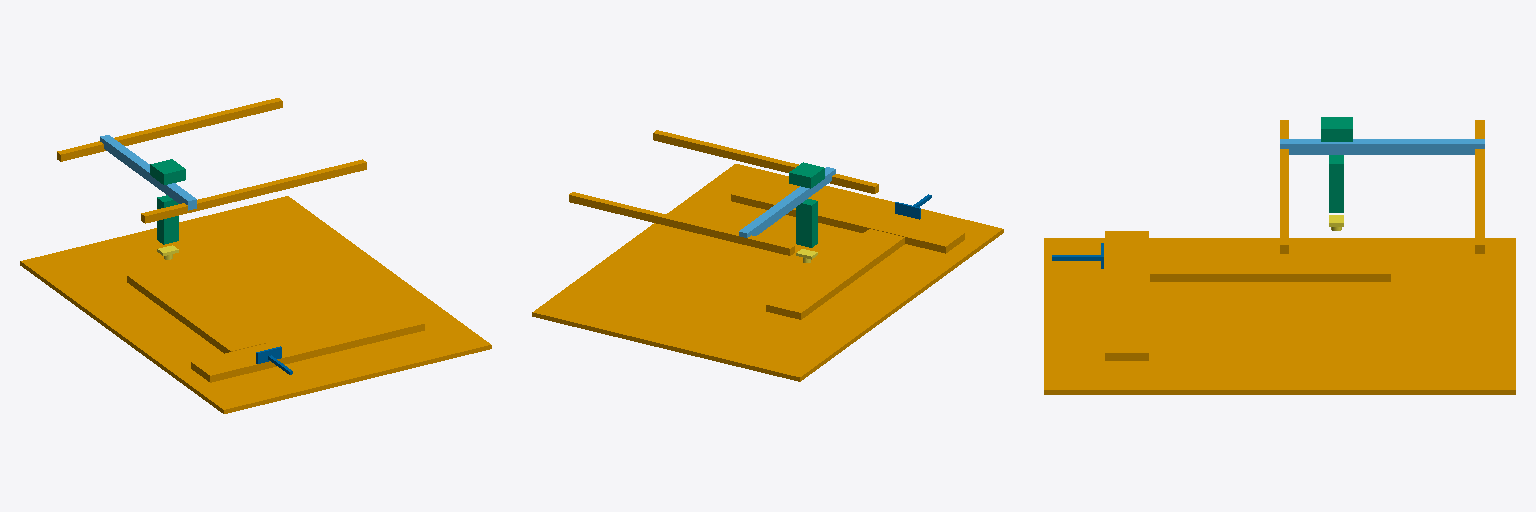
URDF robot description (production_cell):
<?xml version="1.0"?>
<!--
  robot: production_cell | consumers: MuJoCo, CAD Viewer, ROS robot_state_publisher
  units: metres, kilograms, seconds, radians | frames: Fusion +X right, +Y toward six bins, +Z up
  root: base_link at centre of the base-board lower face
  source: fusion/ProductionTwin_V0/ProductionTwin_V0.py via cad_reference/production_twin_v0_parts.csv
  geometry: primitive reductions of the Fusion layout; source CSV dimensions are millimetres
  links: base_link = static cell; x_beam_link = moving transverse rail;
         y_carriage_link = carriage plus A2 body; cup_link = A2 moving rods and suction cup;
         pusher_link = A1 moving rod and plate
  joints: x_joint +X from x=-0.180, range 0..0.400 m;
          y_joint +Y from y=0.120, range -0.050..0.220 m;
          a2_joint -Z from cup-link z=0.143, range 0..0.075 m;
          a1_joint +Y from plate y=-0.377, range 0..0.110 m
  inertials: assumed masses and box-envelope COM/tensors, computed with
             Ixx=m(y^2+z^2)/12, Iyy=m(x^2+z^2)/12, Izz=m(x^2+y^2)/12;
             these are placeholders, not CAD mass properties
  assumptions:
  - All machine dimensions are estimates from images, not measured geometry.
  - X and Y ranges are provisional drawing-workspace limits, not hardware limits.
  - A1 stroke 110 mm is provisional; A2 75 mm comes from the TN10X75-S label.
  - Z motion is a pneumatic binary stroke, even though modeled as a prismatic joint.
  - Root inertia approximates the whole fixed cell as a 0.76x1.00x0.34 m box of 7 kg.
  - Moving-link masses 0.70, 0.45, 0.15, 0.18 kg are assumed for simulation only.
  - Pusher inertia approximates the plate alone; the visible rod mass is not separately identified.
  - Static details, two moving belt surfaces, sensors, bins, and free products are completed in MJCF.
-->
<robot name="production_cell">
  <link name="base_link">
    <inertial>
      <origin xyz="0 0 0.17" rpy="0 0 0" />
      <mass value="7" />
      <inertia ixx="0.6507666667" ixy="0" ixz="0" iyy="0.4043666667" iyz="0" izz="0.9202666667" />
    </inertial>
    <visual name="base_board">
      <origin xyz="0 0 0.006" rpy="0 0 0" />
      <geometry><box size="0.760 1.000 0.012" /></geometry>
    </visual>
    <visual name="front_conveyor">
      <origin xyz="-0.040 -0.325 0.0355" rpy="0 0 0" />
      <geometry><box size="0.610 0.095 0.019" /></geometry>
    </visual>
    <visual name="long_conveyor">
      <origin xyz="-0.180 -0.020 0.0355" rpy="0 0 0" />
      <geometry><box size="0.100 0.510 0.019" /></geometry>
    </visual>
    <visual name="gantry_front_rail">
      <origin xyz="0 0.010 0.310" rpy="0 0 0" />
      <geometry><box size="0.630 0.020 0.020" /></geometry>
    </visual>
    <visual name="gantry_rear_rail">
      <origin xyz="0 0.425 0.310" rpy="0 0 0" />
      <geometry><box size="0.630 0.020 0.020" /></geometry>
    </visual>
    <collision name="base_board_collision">
      <origin xyz="0 0 0.006" rpy="0 0 0" />
      <geometry><box size="0.760 1.000 0.012" /></geometry>
    </collision>
    <collision name="front_belt_collision">
      <origin xyz="-0.040 -0.325 0.047" rpy="0 0 0" />
      <geometry><box size="0.590 0.073 0.004" /></geometry>
    </collision>
    <collision name="long_belt_collision">
      <origin xyz="-0.180 -0.020 0.047" rpy="0 0 0" />
      <geometry><box size="0.078 0.490 0.004" /></geometry>
    </collision>
  </link>
  <link name="x_beam_link">
    <inertial>
      <origin xyz="0 0 0" rpy="0 0 0" />
      <mass value="0.70" />
      <inertia ixx="0.0110745833" ixy="0" ixz="0" iyy="0.0000729167" iyz="0" izz="0.0110745833" />
    </inertial>
    <visual name="moving_y_rail">
      <origin xyz="0 0 0" rpy="0 0 0" />
      <geometry><box size="0.025 0.435 0.025" /></geometry>
    </visual>
    <collision>
      <origin xyz="0 0 0" rpy="0 0 0" />
      <geometry><box size="0.025 0.435 0.025" /></geometry>
    </collision>
  </link>
  <link name="y_carriage_link">
    <inertial>
      <origin xyz="0 0 -0.060" rpy="0 0 0" />
      <mass value="0.45" />
      <inertia ixx="0.0006693375" ixy="0" ixz="0" iyy="0.0006400875" iyz="0" izz="0.00031755" />
    </inertial>
    <visual name="carriage">
      <origin xyz="0 0 0.015" rpy="0 0 0" />
      <geometry><box size="0.062 0.068 0.030" /></geometry>
    </visual>
    <visual name="a2_body">
      <origin xyz="0 0 -0.1125" rpy="0 0 0" />
      <geometry><box size="0.045 0.032 0.115" /></geometry>
    </visual>
    <collision>
      <origin xyz="0 0 -0.1125" rpy="0 0 0" />
      <geometry><box size="0.045 0.032 0.115" /></geometry>
    </collision>
  </link>
  <link name="cup_link">
    <inertial>
      <origin xyz="0 0 0" rpy="0 0 0" />
      <mass value="0.15" />
      <inertia ixx="0.00003125" ixy="0" ixz="0" iyy="0.0000442" iyz="0" izz="0.00003545" />
    </inertial>
    <visual name="a2_end_plate">
      <origin xyz="0 0 0.004" rpy="0 0 0" />
      <geometry><box size="0.044 0.030 0.008" /></geometry>
    </visual>
    <visual name="suction_cup">
      <origin xyz="0 0 -0.008" rpy="0 0 0" />
      <geometry><cylinder radius="0.011" length="0.016" /></geometry>
    </visual>
    <collision>
      <origin xyz="0 0 -0.008" rpy="0 0 0" />
      <geometry><cylinder radius="0.011" length="0.016" /></geometry>
    </collision>
  </link>
  <link name="pusher_link">
    <inertial>
      <origin xyz="0 0 0" rpy="0 0 0" />
      <mass value="0.18" />
      <inertia ixx="0.00001404" ixy="0" ixz="0" iyy="0.000087" iyz="0" izz="0.00007404" />
    </inertial>
    <visual name="a1_rod">
      <origin xyz="0 -0.054 -0.0045" rpy="0 0 0" />
      <geometry><box size="0.009 0.108 0.009" /></geometry>
    </visual>
    <visual name="a1_plate">
      <origin xyz="0 0 0" rpy="0 0 0" />
      <geometry><box size="0.070 0.006 0.030" /></geometry>
    </visual>
    <collision>
      <origin xyz="0 0 0" rpy="0 0 0" />
      <geometry><box size="0.070 0.006 0.030" /></geometry>
    </collision>
  </link>
  <joint name="x_joint" type="prismatic">
    <parent link="base_link" />
    <child link="x_beam_link" />
    <origin xyz="-0.180 0.217 0.320" rpy="0 0 0" />
    <axis xyz="1 0 0" />
    <limit lower="0" upper="0.400" effort="100" velocity="0.4" />
  </joint>
  <joint name="y_joint" type="prismatic">
    <parent link="x_beam_link" />
    <child link="y_carriage_link" />
    <origin xyz="0 -0.097 0.025" rpy="0 0 0" />
    <axis xyz="0 1 0" />
    <limit lower="-0.050" upper="0.220" effort="100" velocity="0.4" />
  </joint>
  <joint name="a2_joint" type="prismatic">
    <parent link="y_carriage_link" />
    <child link="cup_link" />
    <origin xyz="0 0 -0.202" rpy="0 0 0" />
    <axis xyz="0 0 -1" />
    <limit lower="0" upper="0.075" effort="100" velocity="0.2" />
  </joint>
  <joint name="a1_joint" type="prismatic">
    <parent link="base_link" />
    <child link="pusher_link" />
    <origin xyz="-0.180 -0.377 0.064" rpy="0 0 0" />
    <axis xyz="0 1 0" />
    <limit lower="0" upper="0.110" effort="100" velocity="0.2" />
  </joint>
</robot>

--- Render facts (derived) ---
The picture shows the robot from 3 angles, left to right: view 1: azimuth 30°, elevation 25°; view 2: azimuth 150°, elevation 25°; view 3: azimuth 270°, elevation 25°; orthographic projection.
Robot: production_cell — 5 links, 4 joints (4 prismatic); root link base_link; default pose: every joint at zero.
Links seen in each view (by area): view 1: base_link, y_carriage_link, x_beam_link; view 2: base_link, y_carriage_link, x_beam_link; view 3: base_link, x_beam_link, y_carriage_link.
Link boxes in pixels (x1,y1,x2,y2): base_link: (20, 98, 491, 413); y_carriage_link: (150, 159, 185, 244); x_beam_link: (100, 135, 196, 210); base_link: (532, 130, 1003, 381); y_carriage_link: (789, 162, 824, 247); x_beam_link: (739, 167, 835, 237); base_link: (1044, 120, 1515, 394); x_beam_link: (1280, 139, 1484, 154); y_carriage_link: (1321, 117, 1352, 212).
Bounding box of the posed robot: 0.76 × 1 × 0.375 m (x, y, z).
Geometry: primitives only (box / cylinder / sphere), no mesh files.
